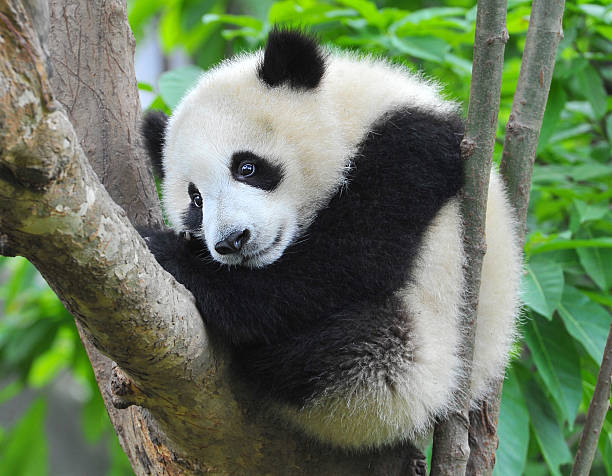panda: (101, 19, 384, 277)
